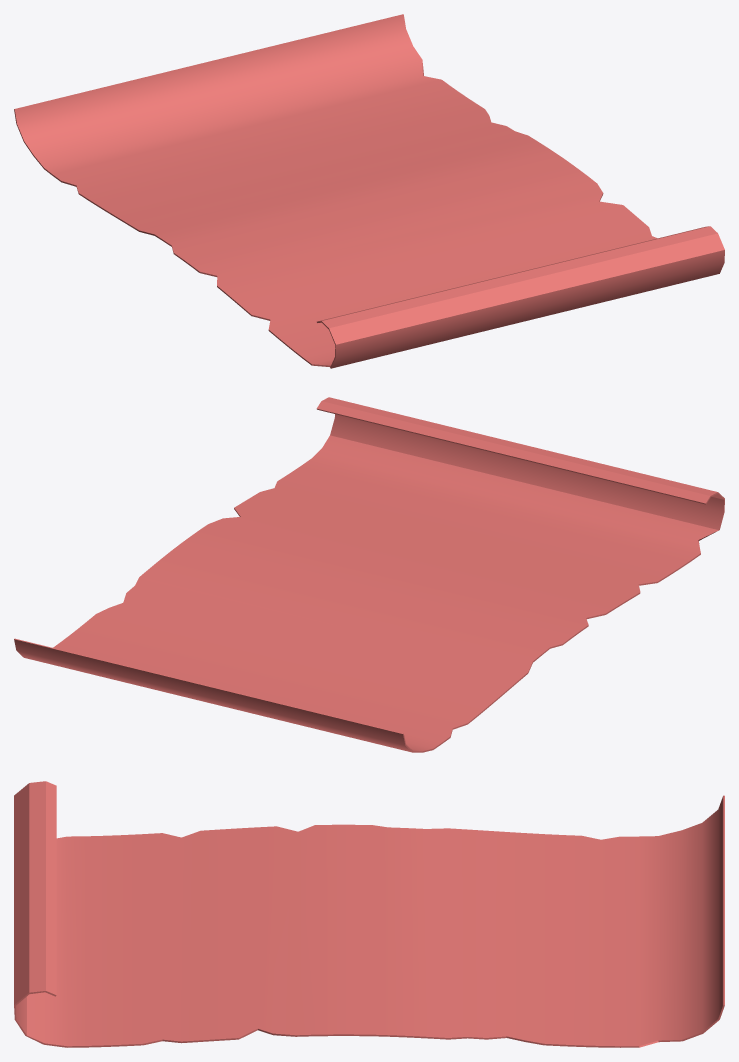
File: TutorialRolls.fbx
The picture shows the model from 3 angles, top to bottom: view 1: azimuth 30°, elevation 25°; view 2: azimuth 150°, elevation 25°; view 3: azimuth 270°, elevation 25°; orthographic projection. The views are drawn at different scales.
Parts seen in each view (by area): view 1: Cube; view 2: Cube; view 3: Cube.
Part boxes in pixels (bbox=[...]): Cube: bbox=[14, 14, 724, 368]; Cube: bbox=[14, 397, 724, 752]; Cube: bbox=[14, 781, 724, 1047].
Size of the model in its own units: 200 by 25.35 by 287.
